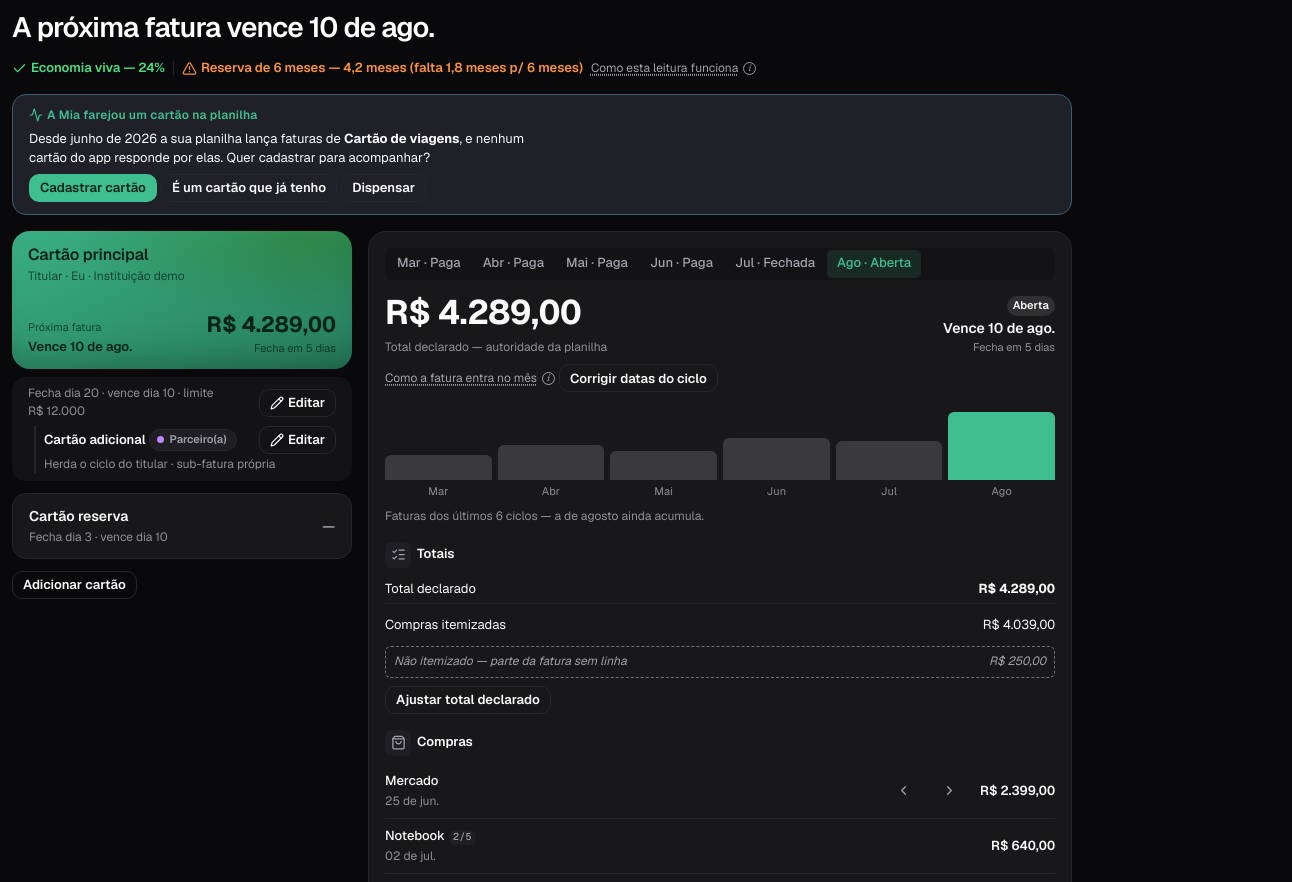
it: Cartões › editar o adicional abre o formulário do adicional, não do titular
This screenshot has width=1292, height=882.
Click the button with aria-label "Editar Cartão adicional". click: (298, 440)
box: left=259, top=426, right=336, bottom=454
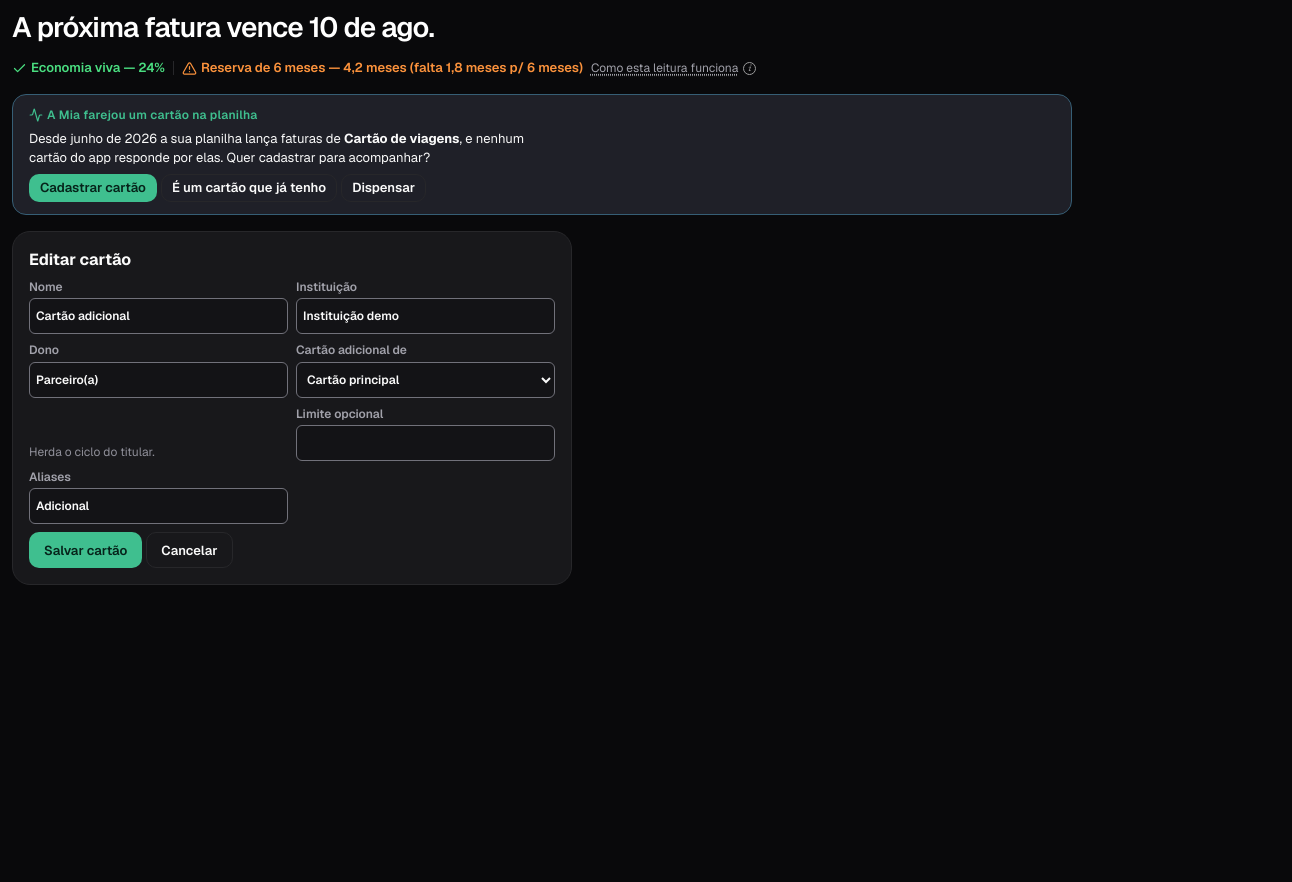
Expected: the field labelled "Nome" holds "Cartão adicional", left=29, top=298, right=288, bottom=334
